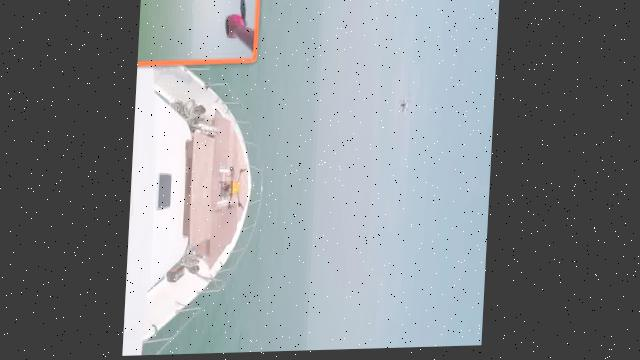drone: (215, 151, 261, 222), (397, 96, 417, 127)
